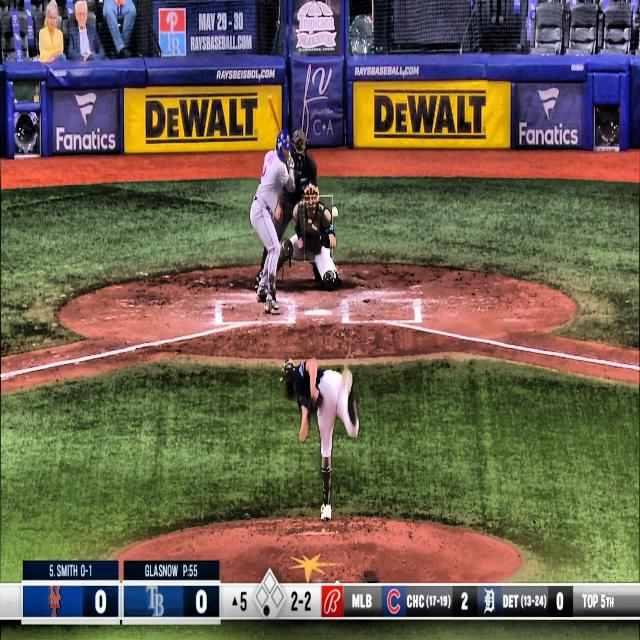baseball: (332, 206, 339, 218)
